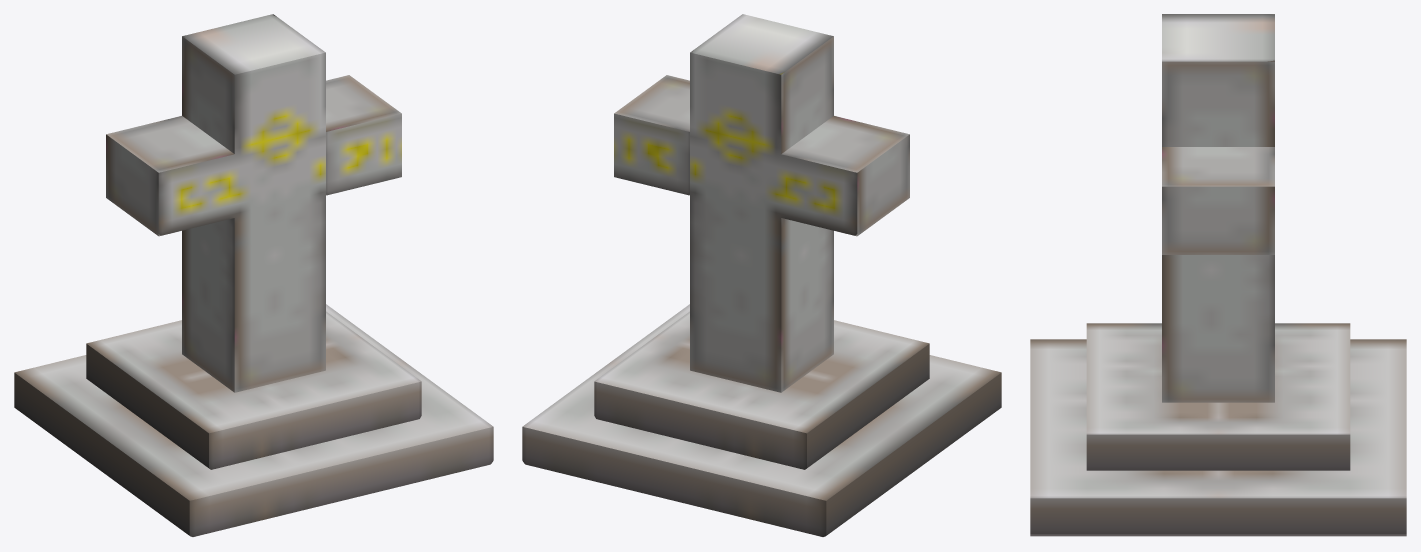
Rendered from Poly_SF_Outside_B_Tombstone_01.obj.
The picture shows the model from 3 angles, left to right: view 1: azimuth 30°, elevation 25°; view 2: azimuth 150°, elevation 25°; view 3: azimuth 270°, elevation 25°; orthographic projection. The views are drawn at different scales.
Visible parts, largest first — view 1: Cube.004; view 2: Cube.004; view 3: Cube.004.
Part boxes in pixels (box(x1,y1,x2,y2)): Cube.004: box(14, 14, 493, 536); Cube.004: box(522, 14, 1001, 536); Cube.004: box(1030, 14, 1406, 536).
Size of the model in its own units: 0.6 by 0.74 by 0.6.
Materials: 1 (1 with a texture image).
